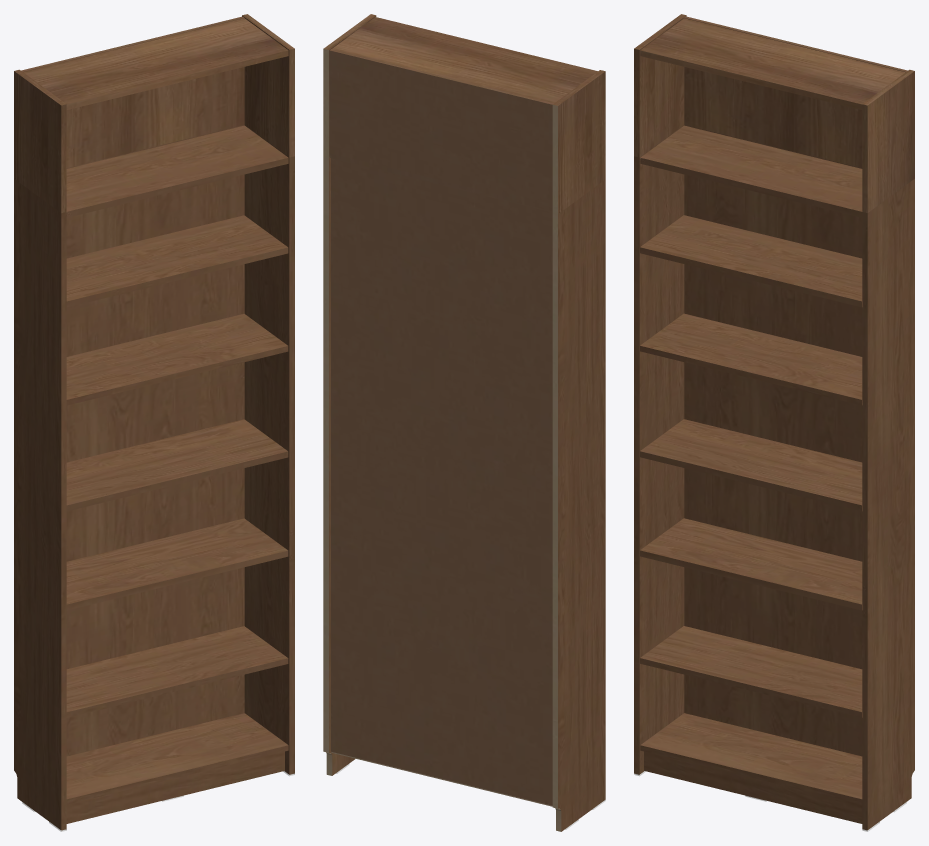
3 renders of one model, left to right at view 1: azimuth 30°, elevation 25°; view 2: azimuth 150°, elevation 25°; view 3: azimuth 330°, elevation 25°, orthographic.
Visible parts, largest first — view 1: Mesh_0; view 2: Mesh_0; view 3: Mesh_0.
Boxes of the visible parts, x1,y1,x2,y2 form: Mesh_0: (14,14,294,830); Mesh_0: (323,14,605,831); Mesh_0: (634,14,914,830).
Bounding box in the file's own units: 0.8 × 2.38 × 0.2804.
Materials: 2 (1 with a texture image).
